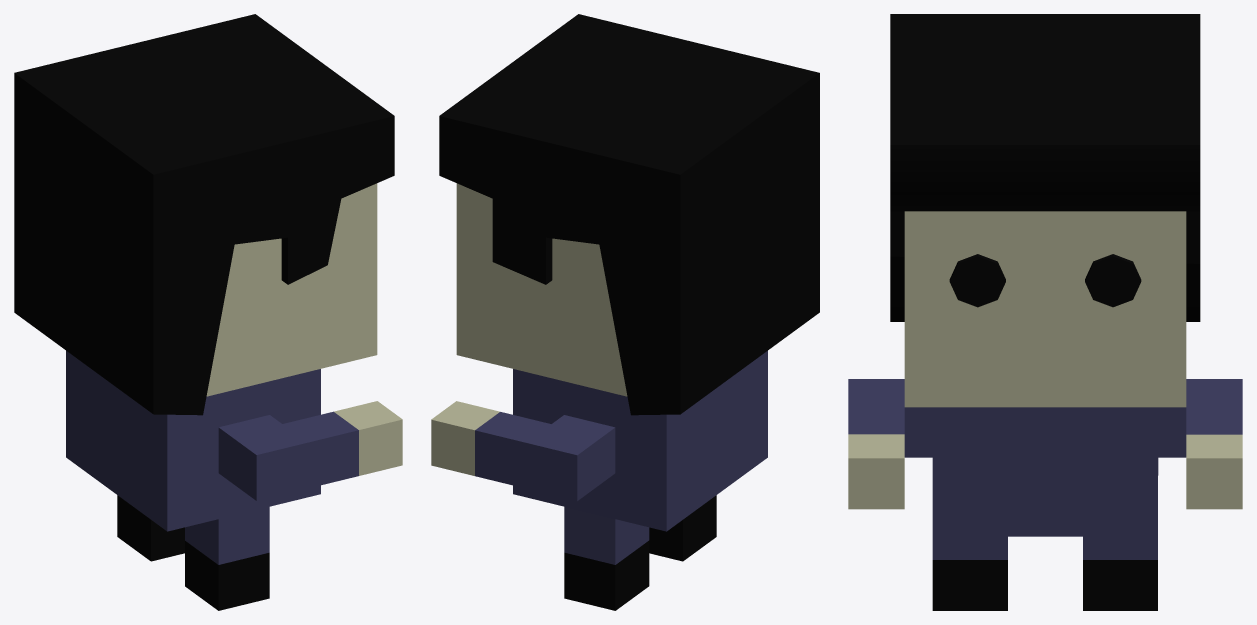
Rendered from hero01.fbx.
The picture shows the model from 3 angles, left to right: view 1: azimuth 30°, elevation 25°; view 2: azimuth 150°, elevation 25°; view 3: azimuth 270°, elevation 25°; orthographic projection. The views are drawn at different scales.
Visible parts, largest first — view 1: hair, body; view 2: hair, body; view 3: body, hair, eye_left, eye_right.
Boxes of the visible parts, x1,y1,x2,y2 form: hair: (14, 14, 394, 415); body: (66, 183, 402, 610); hair: (439, 14, 819, 415); body: (431, 183, 767, 610); body: (848, 211, 1242, 610); hair: (890, 14, 1200, 321); eye_left: (949, 254, 1005, 307); eye_right: (1085, 254, 1141, 307).
Size of the model in its own units: 55 by 102 by 70.01.
